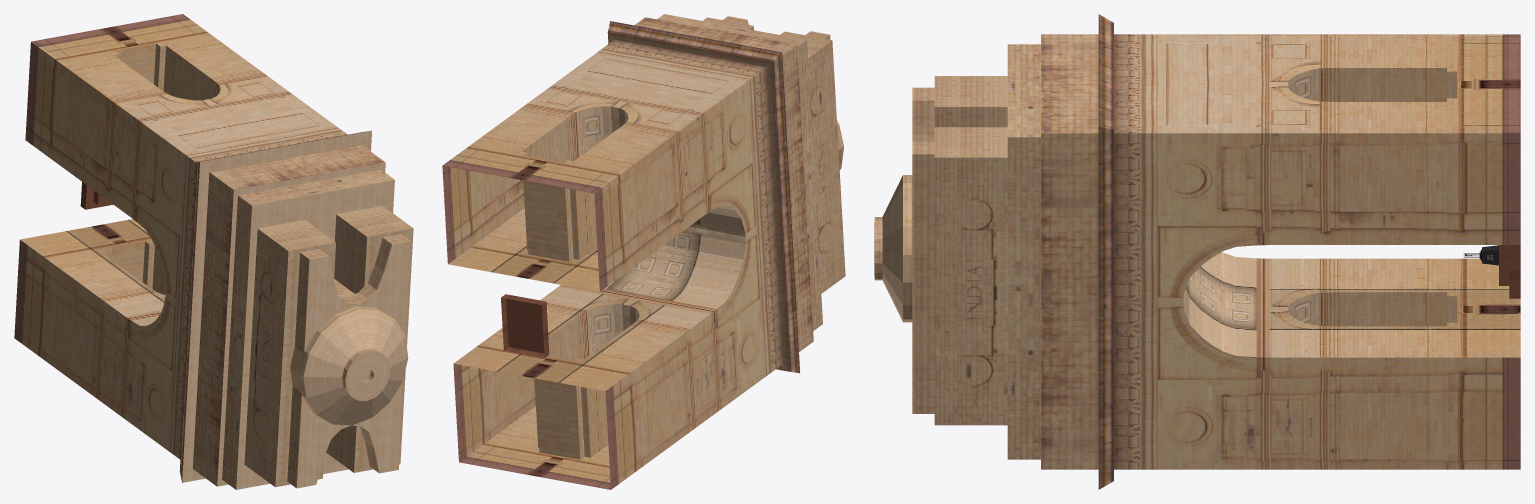
Rendered from indiagate.glb.
3 renders of one model, left to right at view 1: azimuth 30°, elevation 25°; view 2: azimuth 150°, elevation 25°; view 3: azimuth 270°, elevation 25°, orthographic. The views are drawn at different scales.
Parts seen in each view (by area): view 1: India gate; view 2: India gate; view 3: India gate.
Part boxes in pixels (x1,y1,x2,y2): India gate: (14,14,413,489); India gate: (442,14,845,489); India gate: (874,14,1520,489).
Bounding box in the file's own units: 0.5806 × 0.9556 × 1.45.
1 material, 1 textured.
